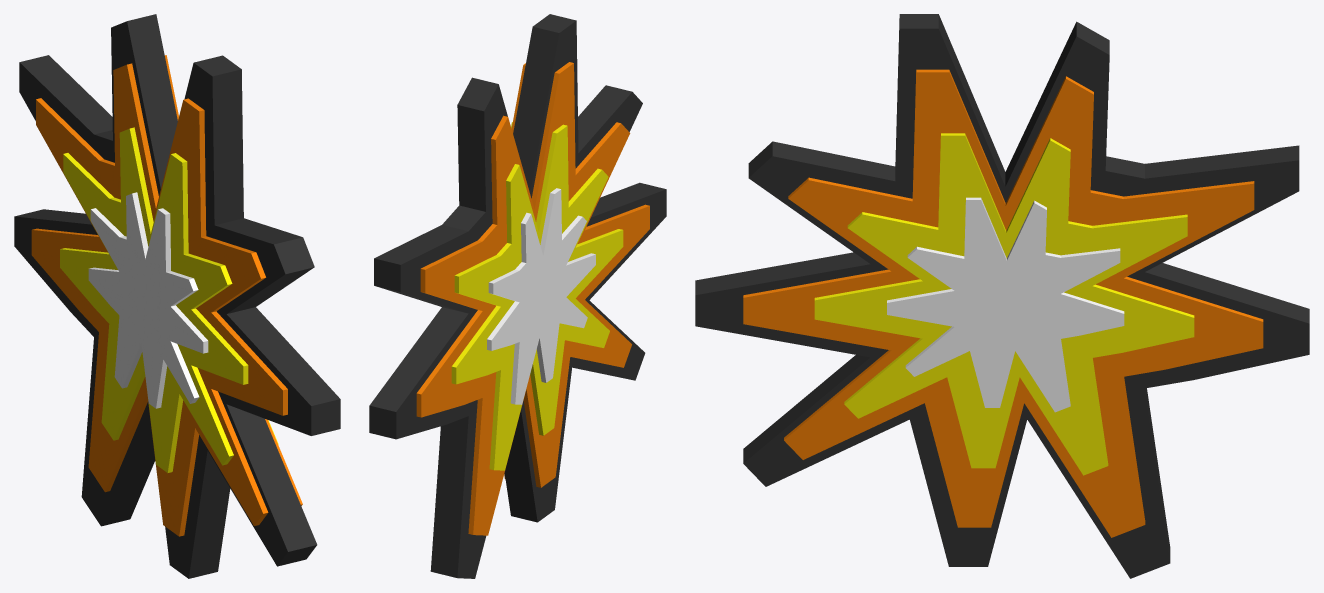
The model's file is DamagePuwerUp.fbx.
3 views of the same model, side by side, from view 1: azimuth 30°, elevation 25°; view 2: azimuth 150°, elevation 25°; view 3: azimuth 270°, elevation 25° (orthographic). The views are drawn at different scales.
Parts seen in each view (by area): view 1: DamageUp; view 2: DamageUp; view 3: DamageUp.
Part boxes in pixels (x1,y1,x2,y2): DamageUp: (14, 14, 340, 578); DamageUp: (369, 14, 666, 578); DamageUp: (695, 14, 1309, 578).
Bounding box in the file's own units: 58 × 492 × 498.
